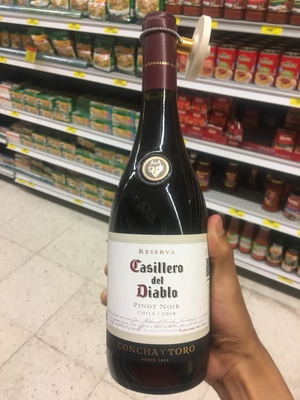casillero del diablo pinot noir: (100, 22, 243, 390)
